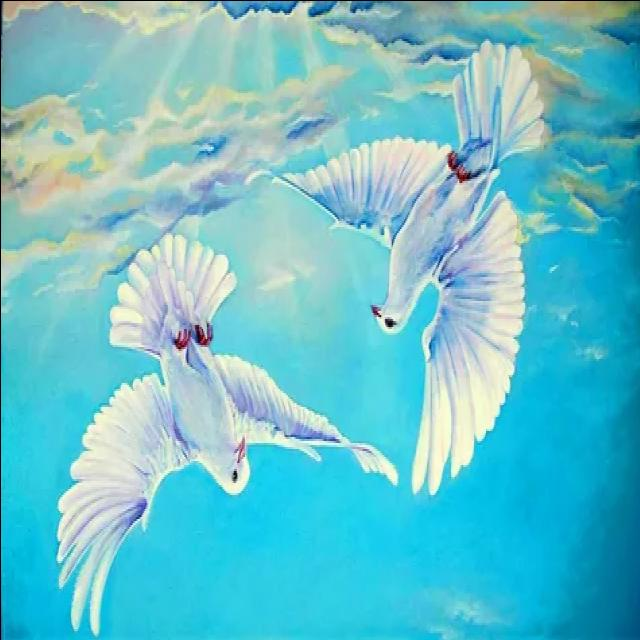pigeon: (53, 226, 401, 634)
